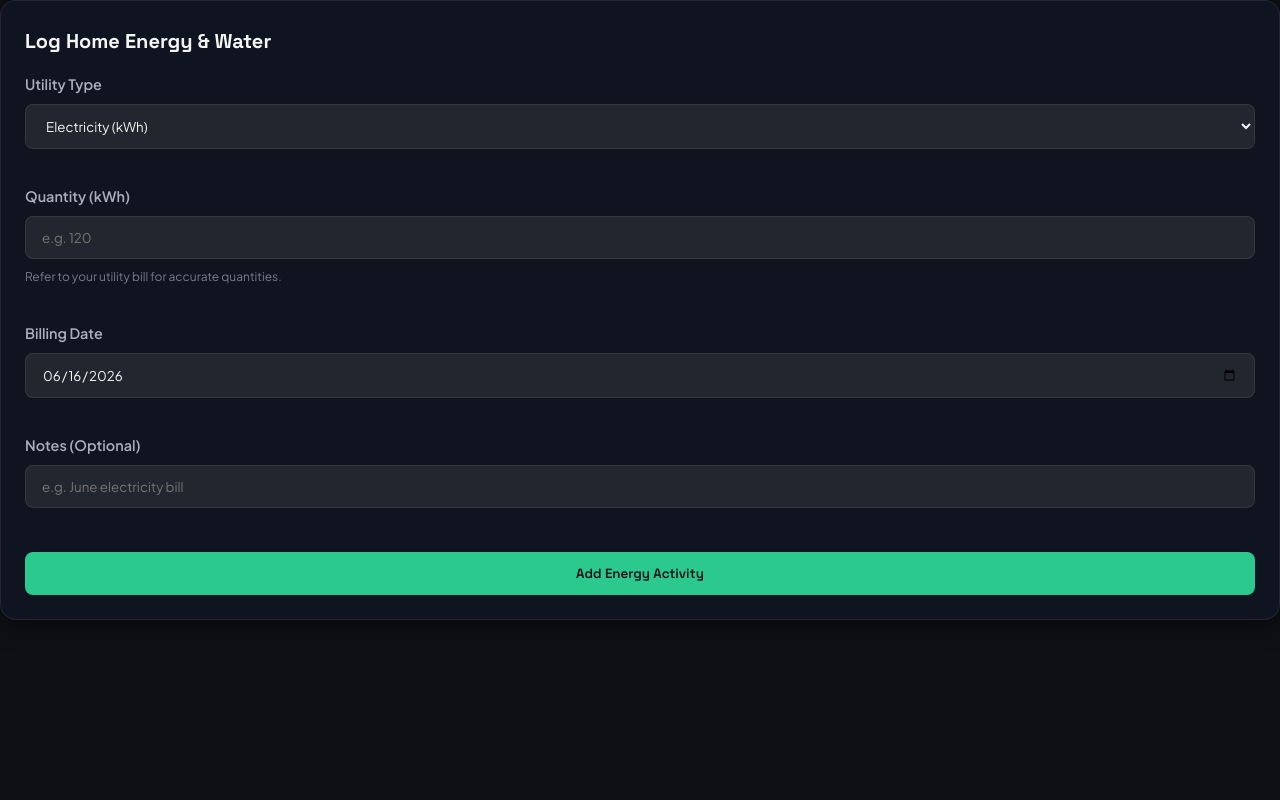
Test: EnergyForm Component › renders labels and submits energy logs successfully
Expected: the dropdown labelled "Utility Type" is shown, [25,104,1255,149]
Type "150" into the number field labelled "Quantity (kWh)". click: (640, 238)
box: [25,216,1255,259]
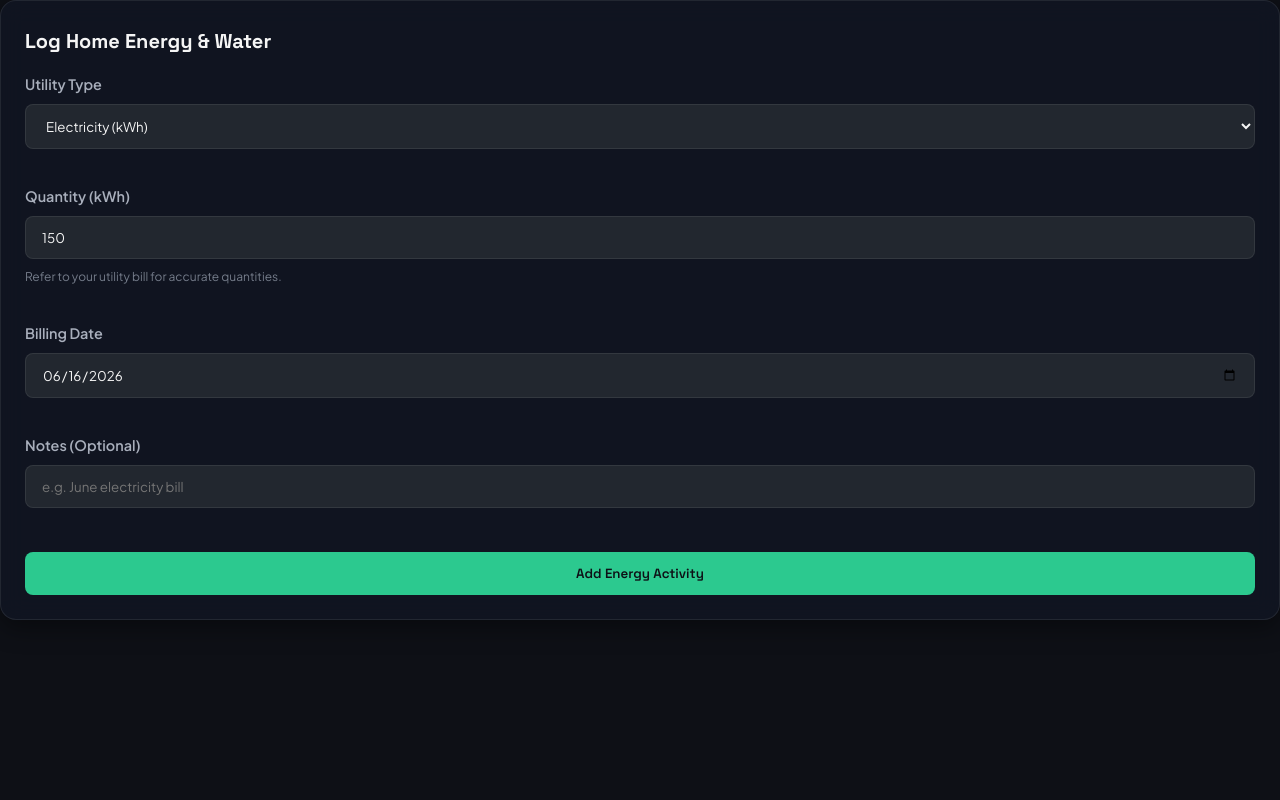
Click the button "Add Energy Activity". click: (640, 574)
box: [25,552,1255,595]
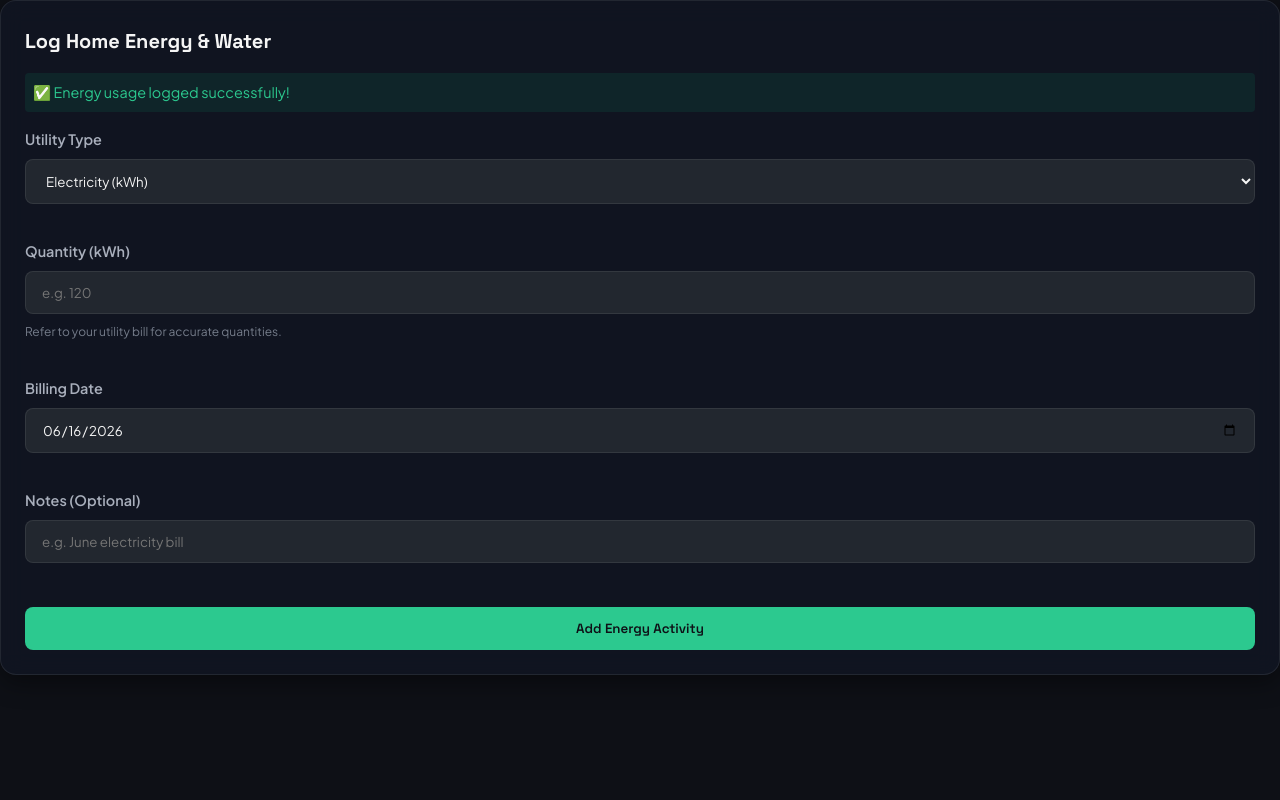
Expected: the message shows "logged successfully", [33,83,290,101]
